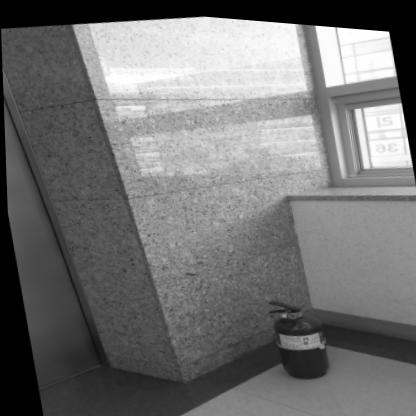FE: (261, 286, 330, 380)
